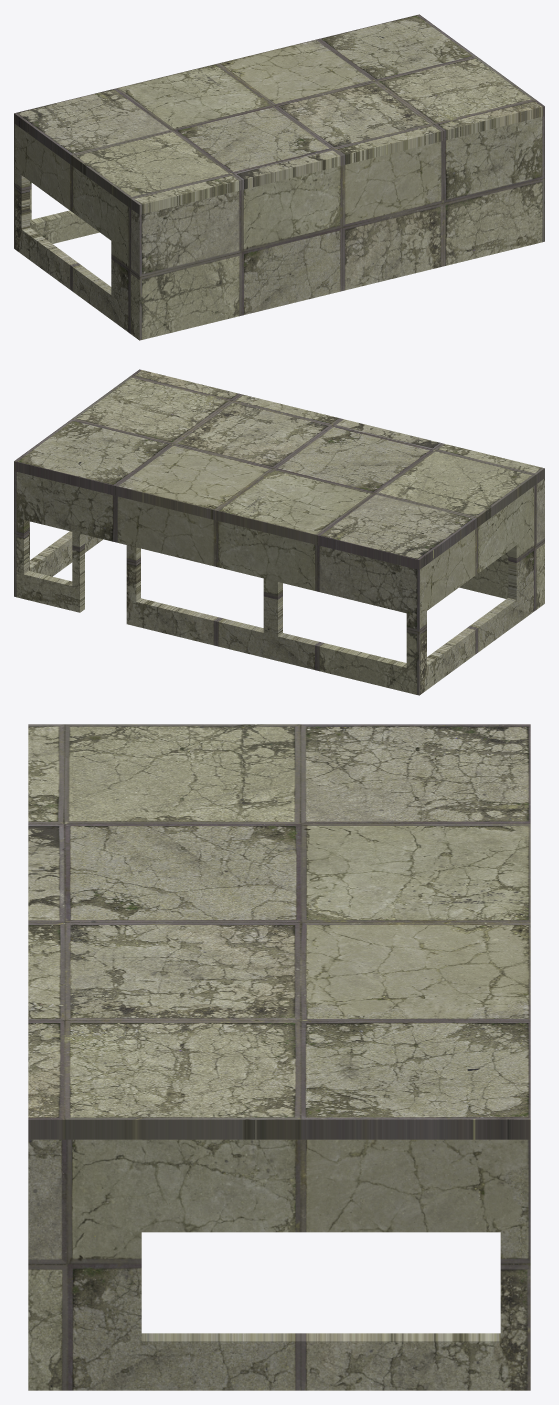
File: SM_Republic_02_00.009.fbx
The picture shows the model from 3 angles, top to bottom: view 1: azimuth 30°, elevation 25°; view 2: azimuth 150°, elevation 25°; view 3: azimuth 270°, elevation 25°; orthographic projection. The views are drawn at different scales.
Parts seen in each view (by area): view 1: SM_Republic_02_00.009; view 2: SM_Republic_02_00.009; view 3: SM_Republic_02_00.009.
Boxes of the visible parts, bbox=[...] form: SM_Republic_02_00.009: bbox=[14, 14, 544, 340]; SM_Republic_02_00.009: bbox=[14, 369, 544, 695]; SM_Republic_02_00.009: bbox=[28, 724, 530, 1390].
Size of the model in its own units: 1755 by 560 by 942.
